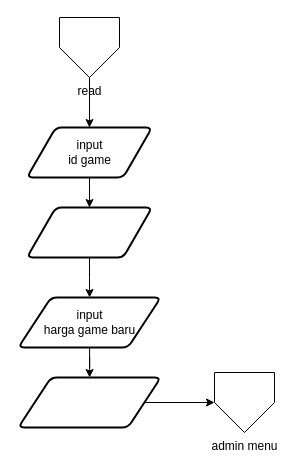
The diagram is 295 pixels wide and 471 high, and some of its shapes have lost their labels. Each missing label, with the centre of its shape:
input nama game baru: point 89,232
output "Berhasil!": point 89,402
